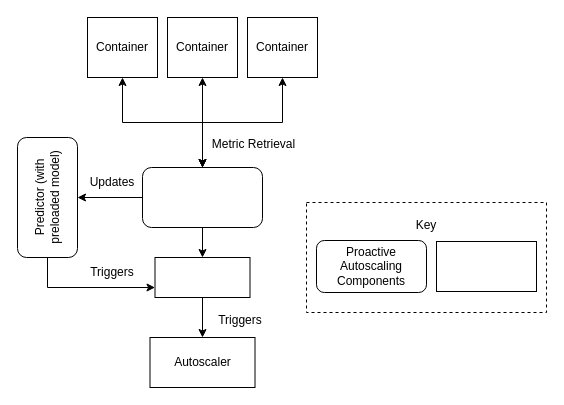
Some shapes in this 564 by 405 pixel diagram are drawn without their labels. The shapes that lost their labels are listed below. From the top down, each one's centre as x and y in pixels, then its label:
(x=202, y=197): Time-Series Database
(x=202, y=277): Metrics Server
(x=486, y=266): Standard K8s Components
